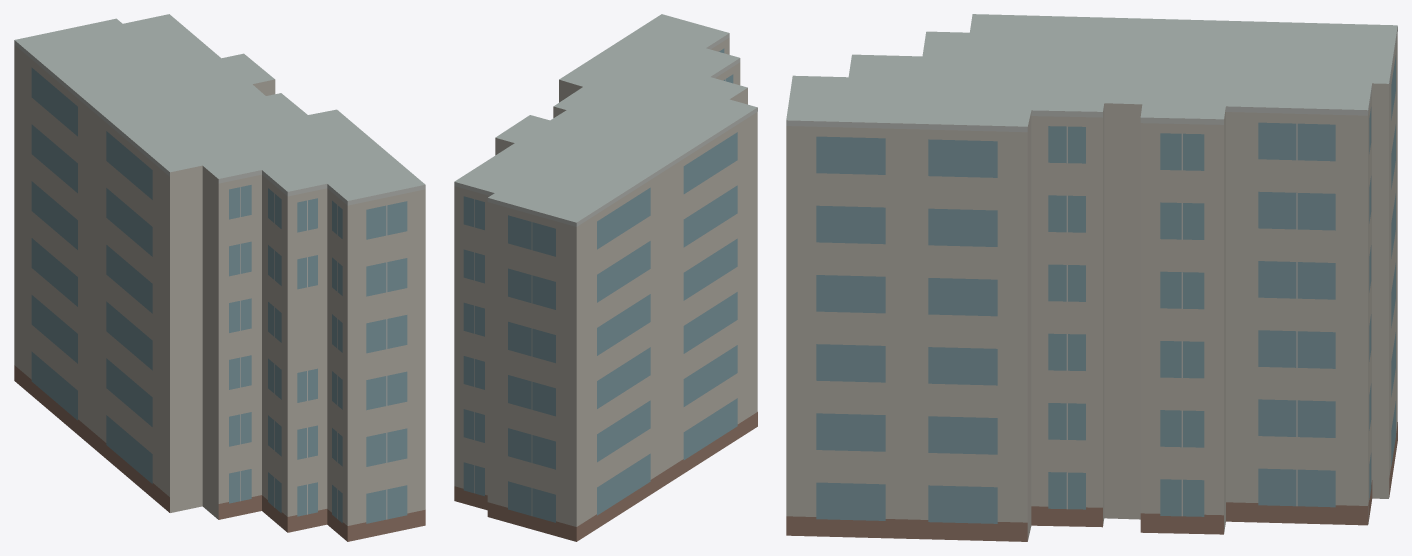
File: survey-upis-32634729.glb
3 views of the same model, side by side, from view 1: azimuth 30°, elevation 25°; view 2: azimuth 150°, elevation 25°; view 3: azimuth 270°, elevation 25° (orthographic). The views are drawn at different scales.
Visible parts, largest first — view 1: survey-upis-32634729.tmp; view 2: survey-upis-32634729.tmp; view 3: survey-upis-32634729.tmp.
Part boxes in pixels (bbox=[...]): survey-upis-32634729.tmp: bbox=[14, 14, 425, 541]; survey-upis-32634729.tmp: bbox=[454, 14, 757, 541]; survey-upis-32634729.tmp: bbox=[786, 14, 1397, 541].
Bounding box in the file's own units: 10.55 × 18.1 × 24.18.
